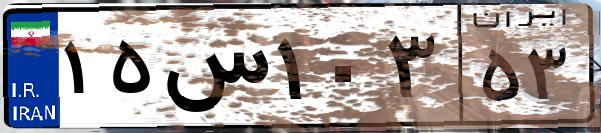0: (330, 28, 385, 110)
1: (270, 28, 330, 110), (57, 26, 110, 100)
3: (385, 28, 445, 110), (525, 38, 570, 115)
5: (475, 38, 525, 113), (110, 28, 158, 98)
س: (158, 20, 270, 120)
